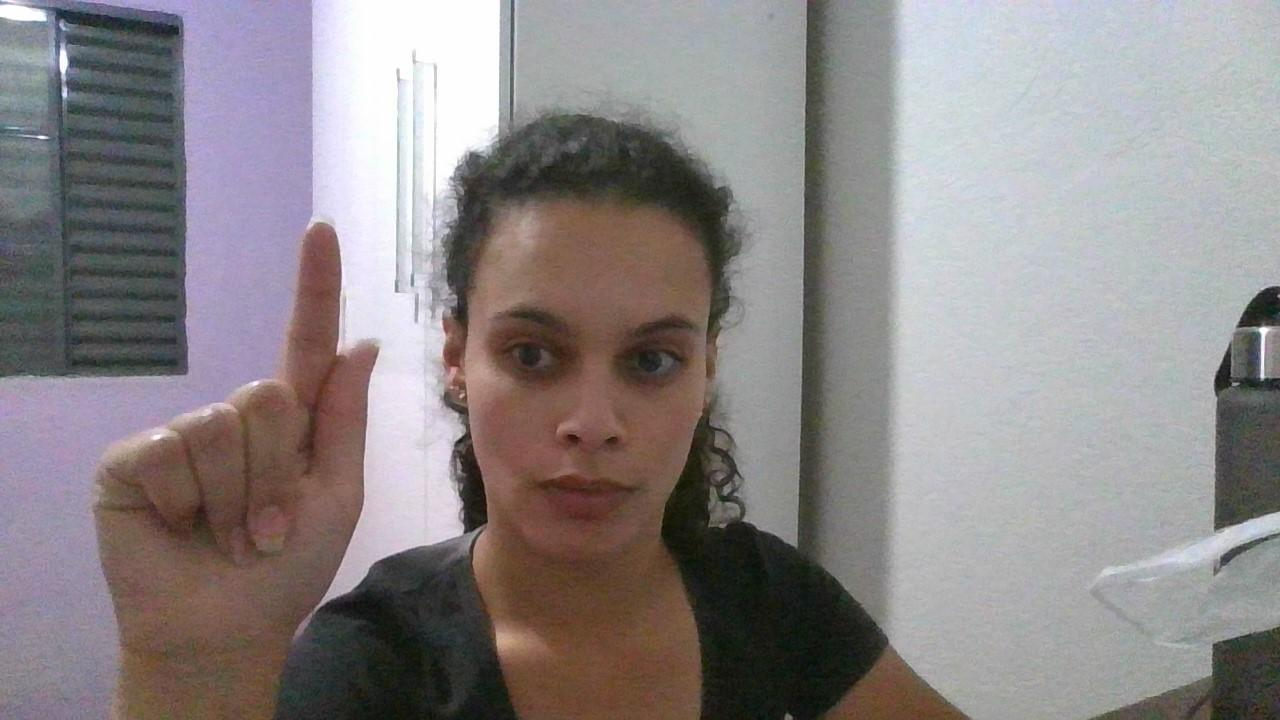G: (82, 212, 392, 686)
